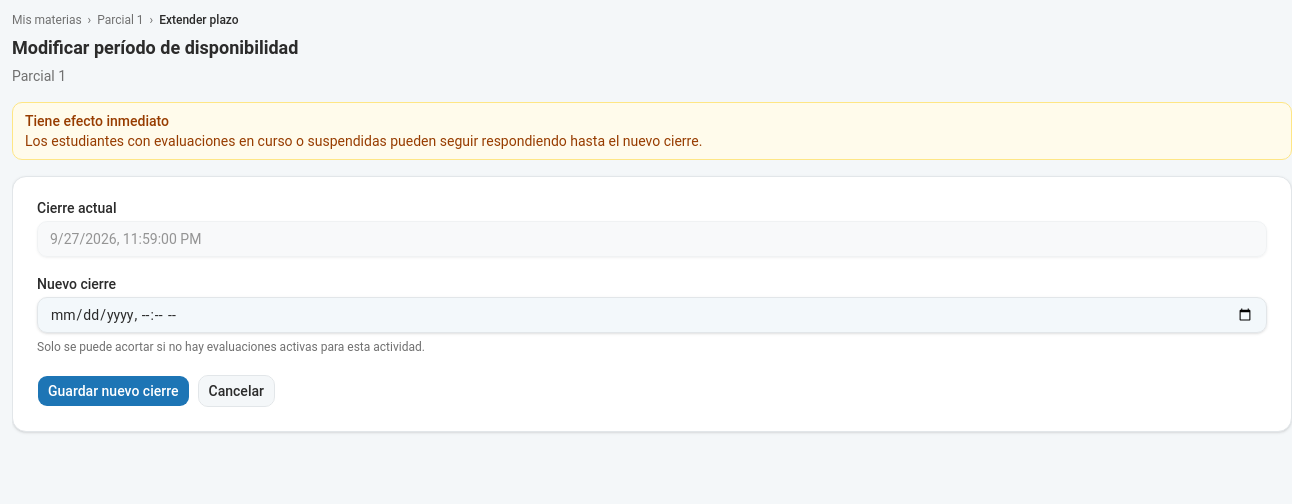
Scenario: ExtenderPlazo › rechazo del servidor por evaluaciones activas muestra el error inline sin navegar
In the field labelled "Nuevo cierre": {"x": 652, "y": 315} [37, 297, 1267, 333], type "2026-09-21T09:00"
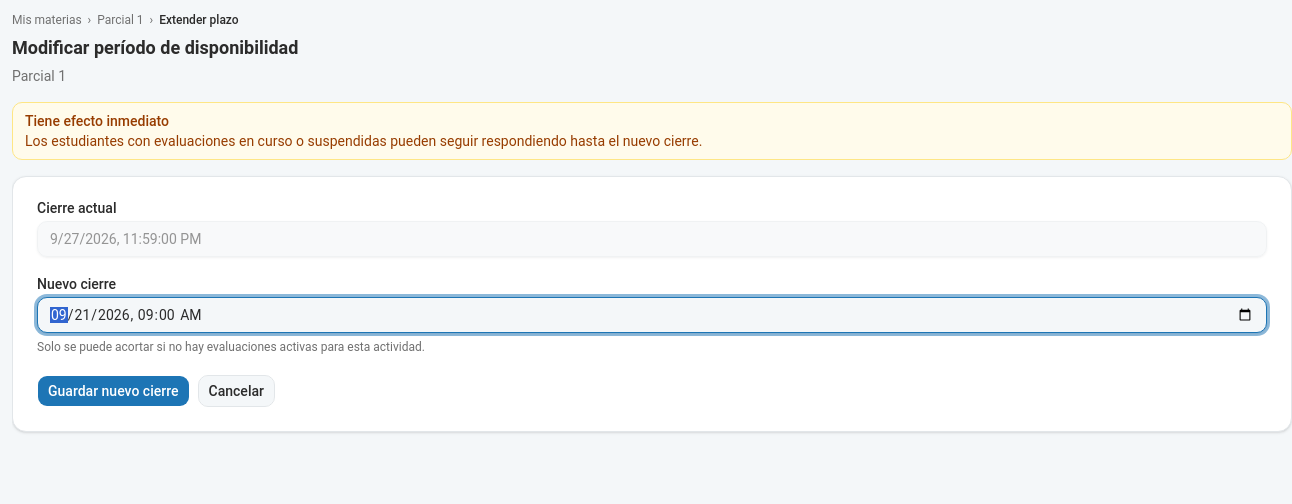
Click the button "Guardar nuevo cierre": {"x": 113, "y": 391} [37, 375, 190, 407]
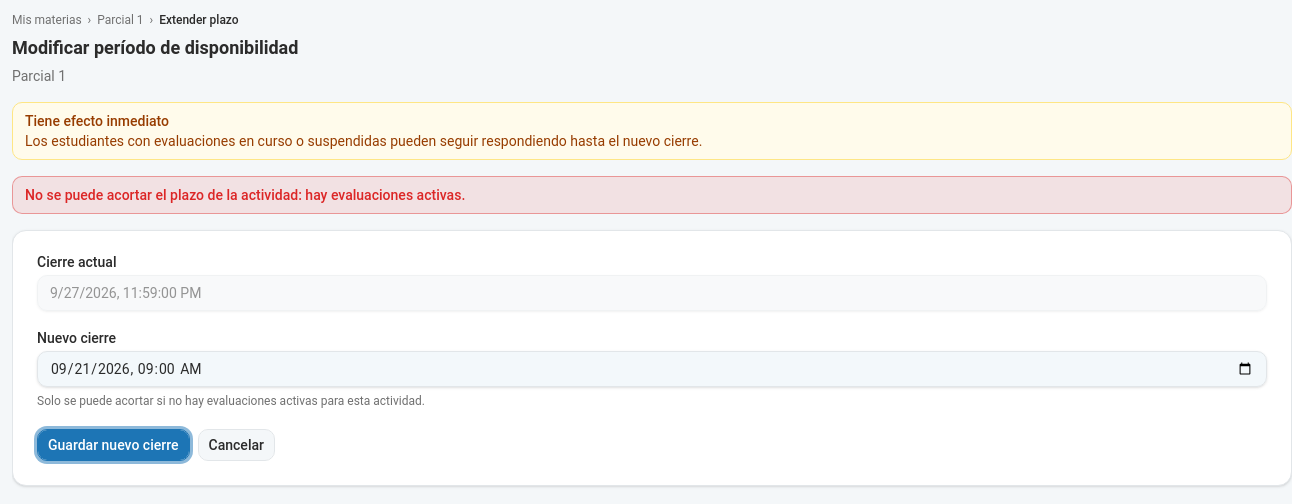
Check: the text "No se puede acortar el plazo de la actividad: hay evaluaciones activas." is shown, box [25, 187, 465, 203]
